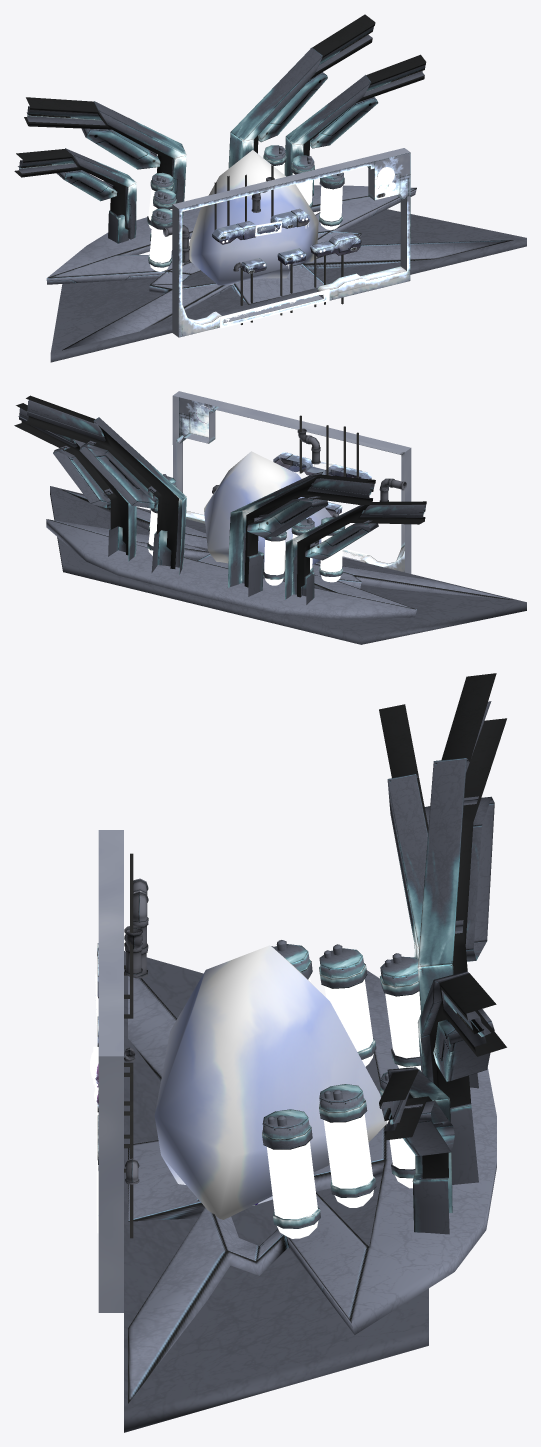
File: Freezer.fbx
3 views of the same model, one above another, from view 1: azimuth 30°, elevation 25°; view 2: azimuth 150°, elevation 25°; view 3: azimuth 270°, elevation 25° (orthographic). The views are drawn at different scales.
Parts seen in each view (by area): view 1: polySurface26, pCube31, IceFlub:pSphere1; view 2: polySurface26, pCube31, IceFlub:pSphere1; view 3: polySurface26, IceFlub:pSphere1, pCube31.
Part boxes in pixels (x1,y1,x2,y2): polySurface26: (14, 14, 526, 362); pCube31: (172, 148, 410, 337); IceFlub:pSphere1: (189, 150, 318, 285); polySurface26: (14, 395, 526, 644); pCube31: (172, 391, 411, 573); IceFlub:pSphere1: (204, 451, 332, 571); polySurface26: (124, 673, 506, 1432); IceFlub:pSphere1: (154, 945, 387, 1219); pCube31: (95, 830, 133, 1312).
Size of the model in its own units: 13132 by 5137 by 5653.
